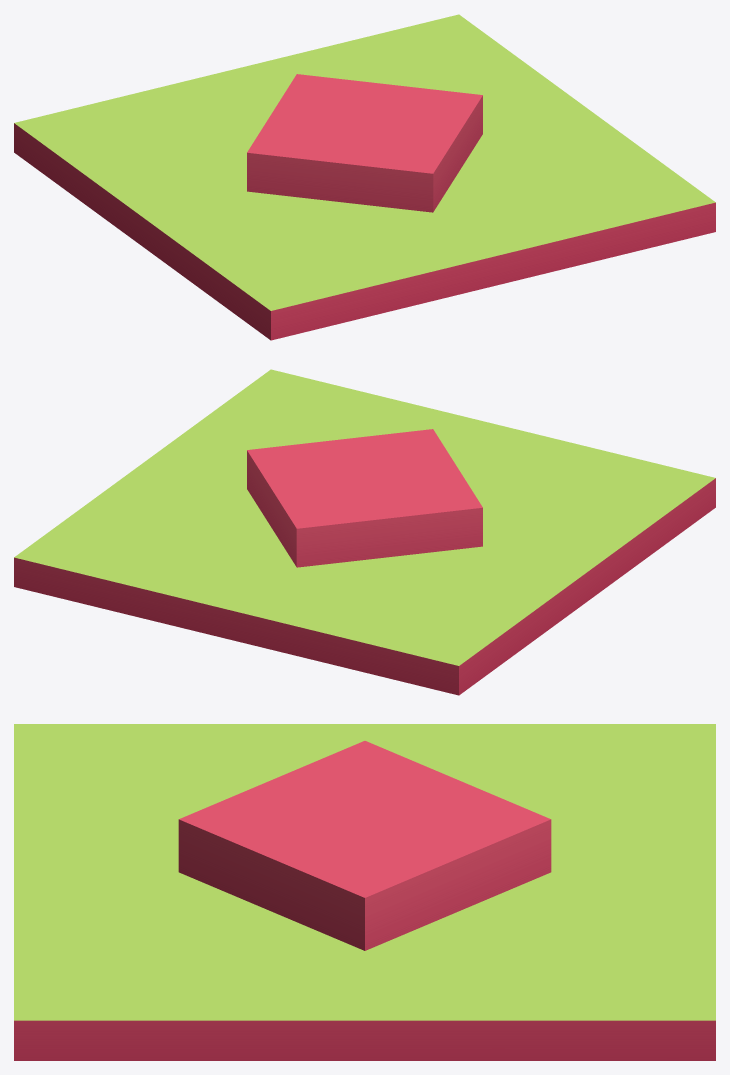
Rendered from obstacle-diamond.gltf.
The picture shows the model from 3 angles, top to bottom: view 1: azimuth 30°, elevation 25°; view 2: azimuth 150°, elevation 25°; view 3: azimuth 270°, elevation 25°; orthographic projection. The views are drawn at different scales.
Parts seen in each view (by area): view 1: obstacle-diamond; view 2: obstacle-diamond; view 3: obstacle-diamond.
Part boxes in pixels (x1=…): obstacle-diamond: x1=14, y1=14, x2=715, y2=340; obstacle-diamond: x1=14, y1=369, x2=715, y2=695; obstacle-diamond: x1=14, y1=724, x2=715, y2=1060.
Bounding box in the file's own units: 0.9999 × 0.1467 × 0.9999.
Materials: 1 (1 with a texture image).
